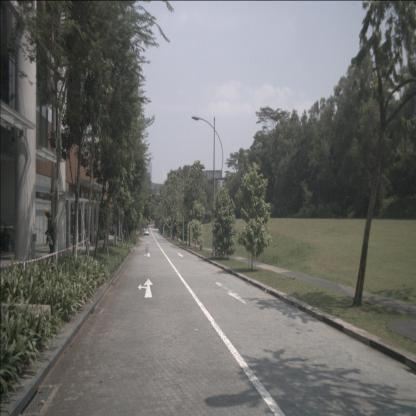vehicle-car: (144, 228, 149, 236)
